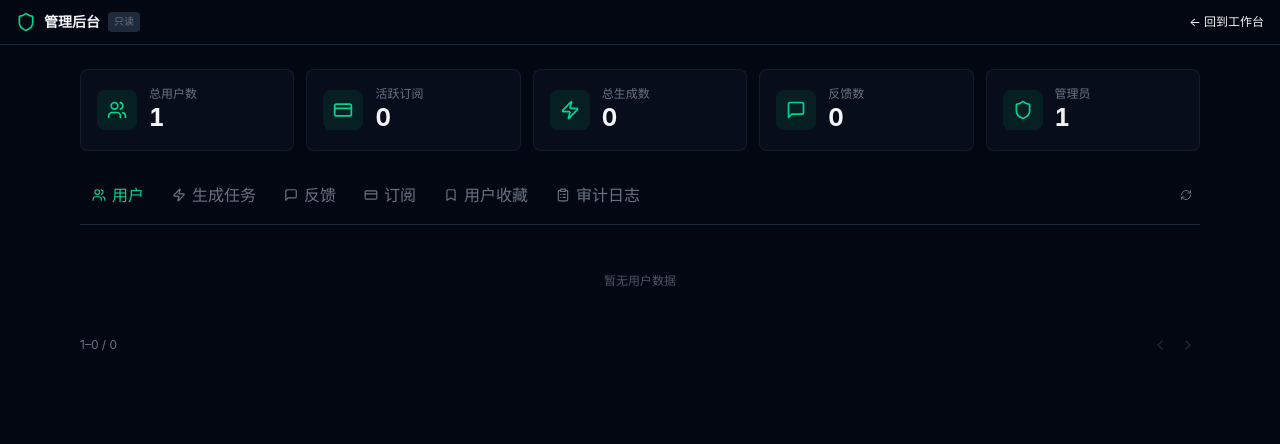
it: 管理员收藏表备注高亮与标签 chip › 文案类型为明显彩色 chip（非灰），平台保持绿色语义，中文映射不变
The image size is (1280, 444).
Click the button "用户收藏" at (486, 195), box [432,175,540,216]
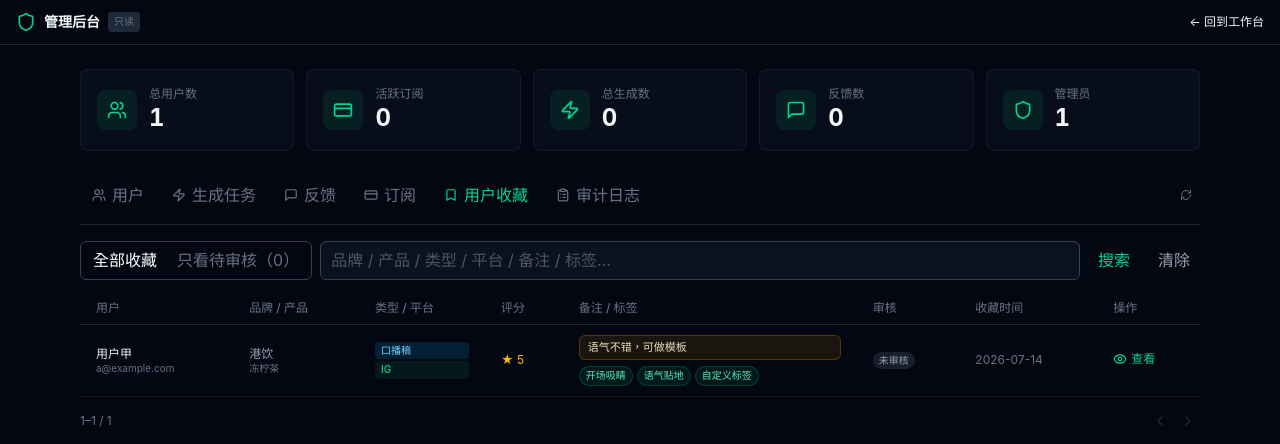
Result: the text with test id "admin-copy-type-chip" reads "口播稿" at [381,344,411,356]
Result: the text with test id "admin-platform-chip" reads "IG" at [381,363,391,375]
